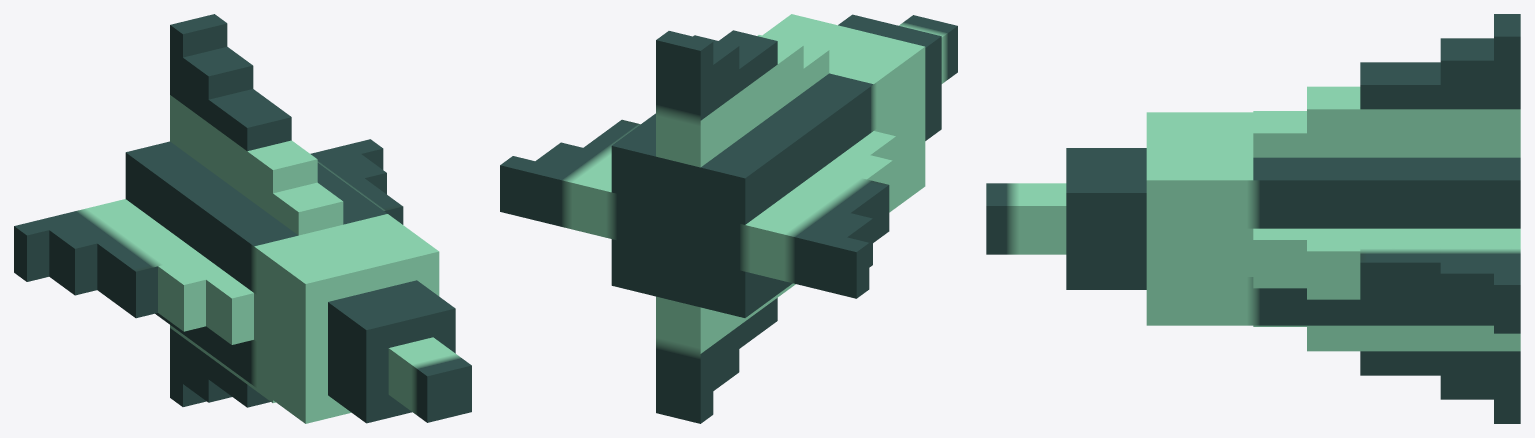
The model's file is BossHomingRocket.fbx.
3 views of the same model, side by side, from view 1: azimuth 30°, elevation 25°; view 2: azimuth 150°, elevation 25°; view 3: azimuth 270°, elevation 25° (orthographic). The views are drawn at different scales.
Visible parts, largest first — view 1: Object; view 2: Object; view 3: Object.
Part boxes in pixels (bbox=[...]): Object: bbox=[14, 14, 471, 423]; Object: bbox=[500, 14, 957, 423]; Object: bbox=[986, 14, 1520, 423].
Size of the model in its own units: 16 by 16 by 20.
